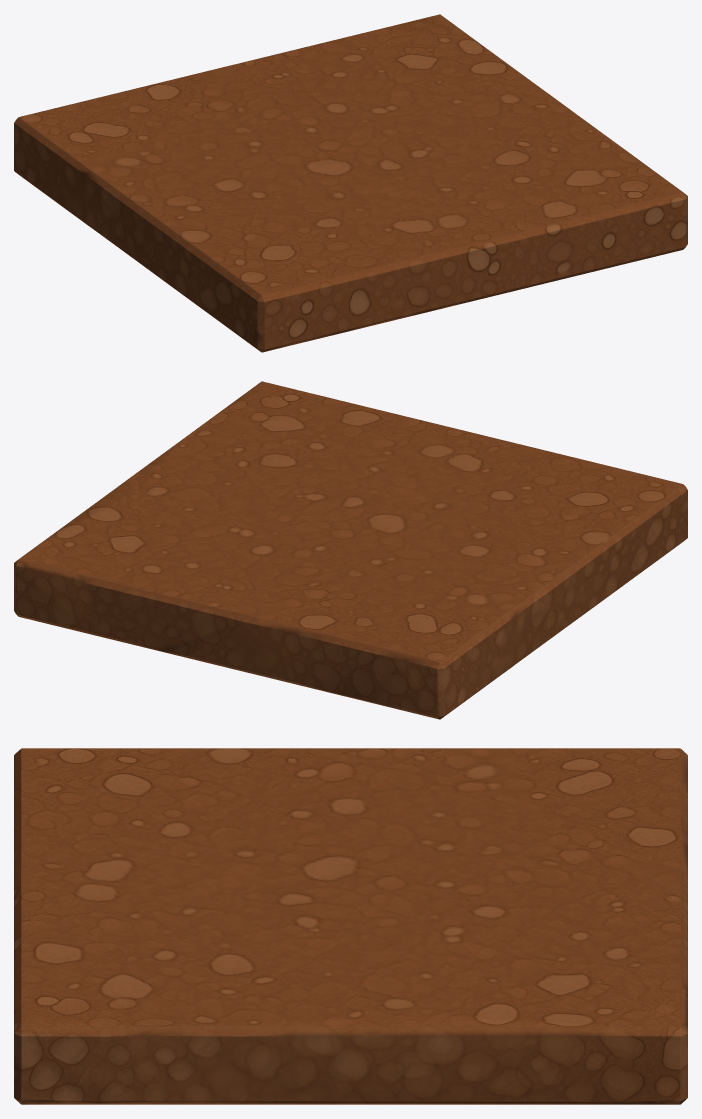
Rendered from soil-tile.glb.
3 renders of one model, top to bottom at view 1: azimuth 30°, elevation 25°; view 2: azimuth 150°, elevation 25°; view 3: azimuth 270°, elevation 25°, orthographic. The views are drawn at different scales.
Size of the model in its own units: 1.9 by 0.2426 by 1.9.
1 material, 1 textured.
